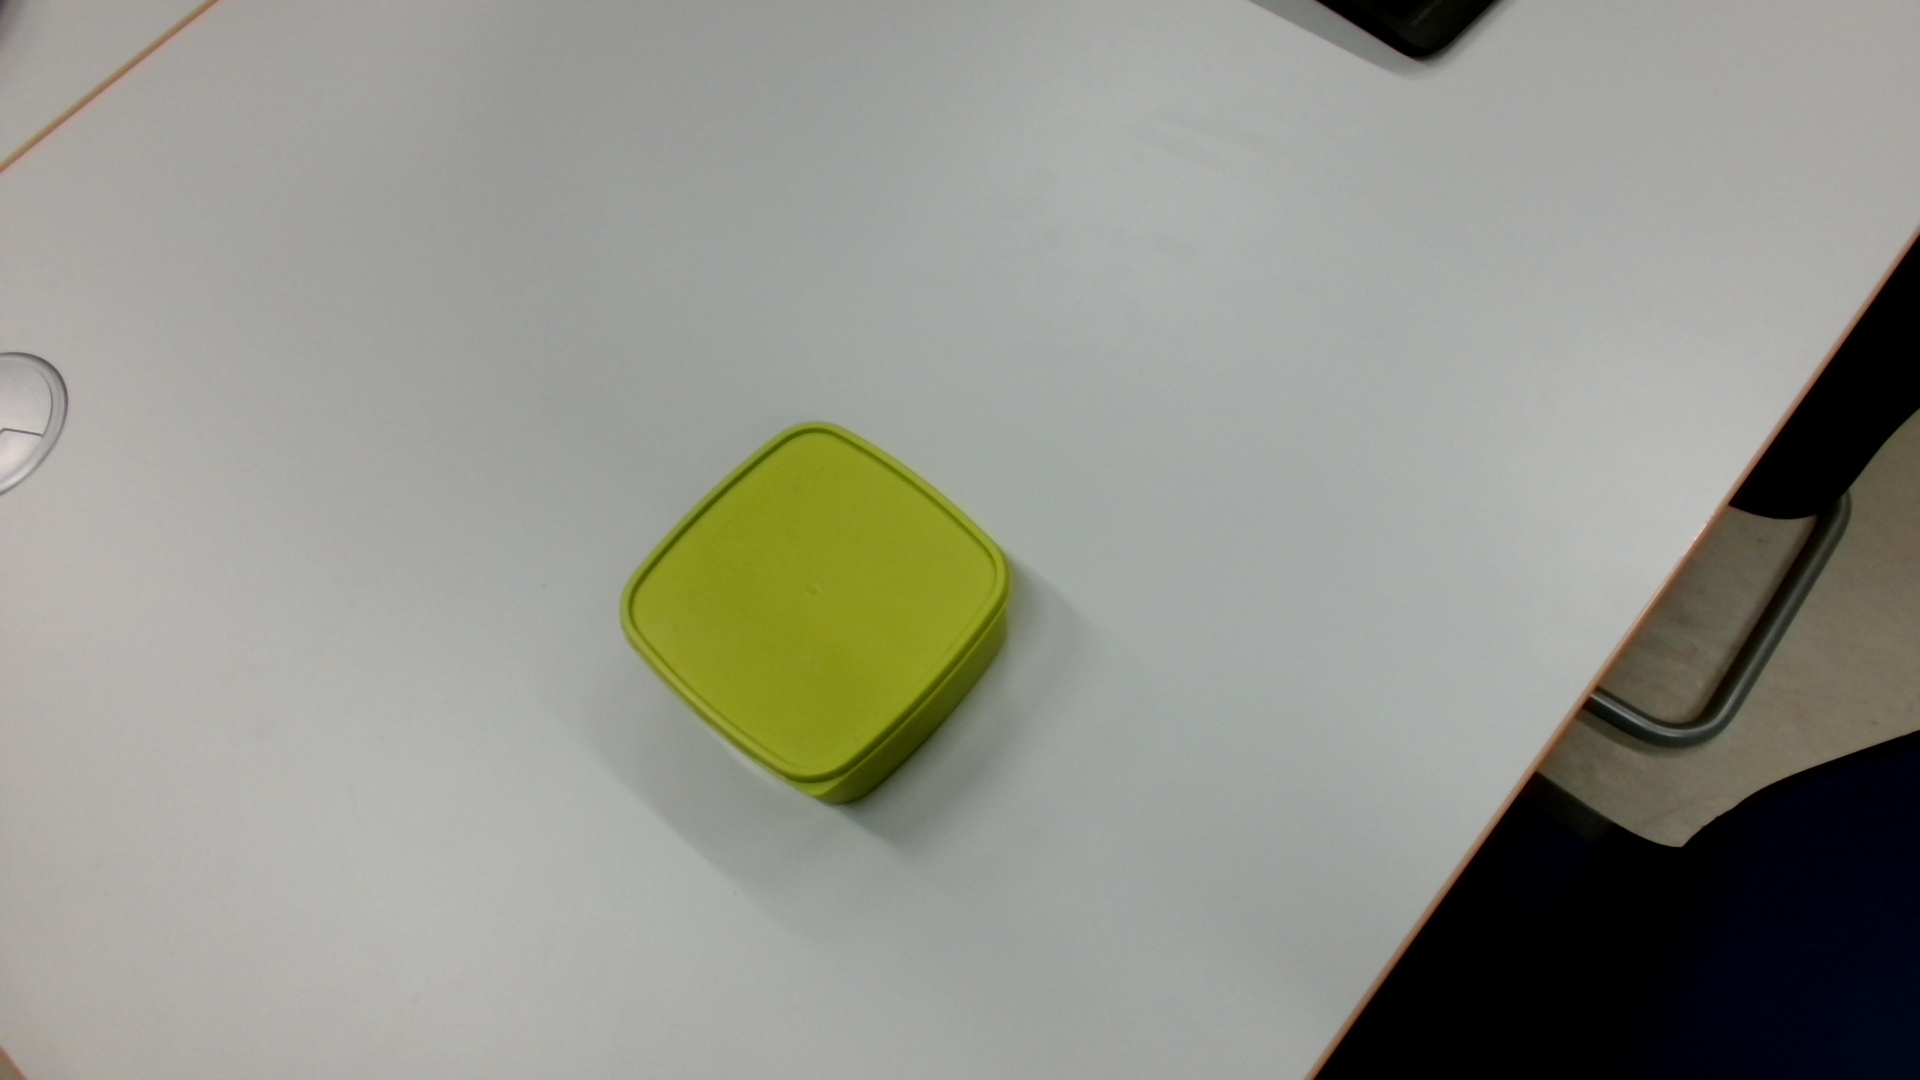Box: (616, 415, 1021, 822)
